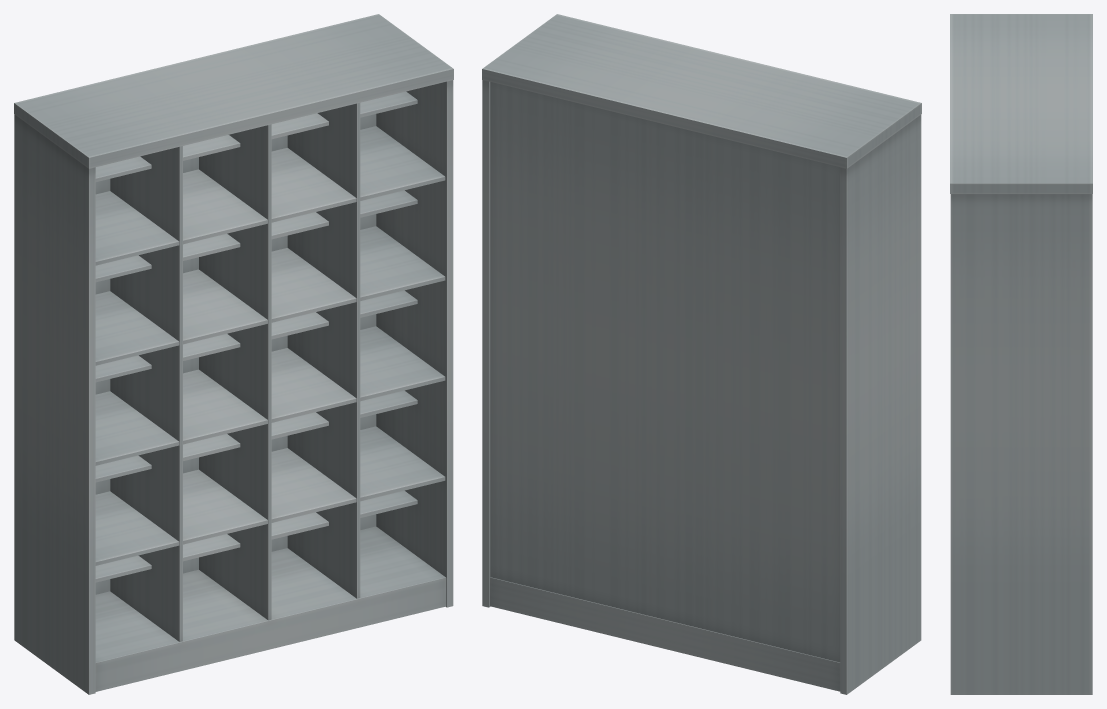
The model's file is set_shoecupboard_a_04.fbx.
3 views of the same model, side by side, from view 1: azimuth 30°, elevation 25°; view 2: azimuth 150°, elevation 25°; view 3: azimuth 270°, elevation 25° (orthographic). The views are drawn at different scales.
Parts seen in each view (by area): view 1: set_shoecupboard_a_04; view 2: set_shoecupboard_a_04; view 3: set_shoecupboard_a_04.
Boxes of the visible parts, left/top/right/bottom form: set_shoecupboard_a_04: left=14, top=14, right=453, bottom=694; set_shoecupboard_a_04: left=482, top=14, right=921, bottom=694; set_shoecupboard_a_04: left=950, top=14, right=1092, bottom=694.
Size of the model in its own units: 105 by 148 by 37.38.
